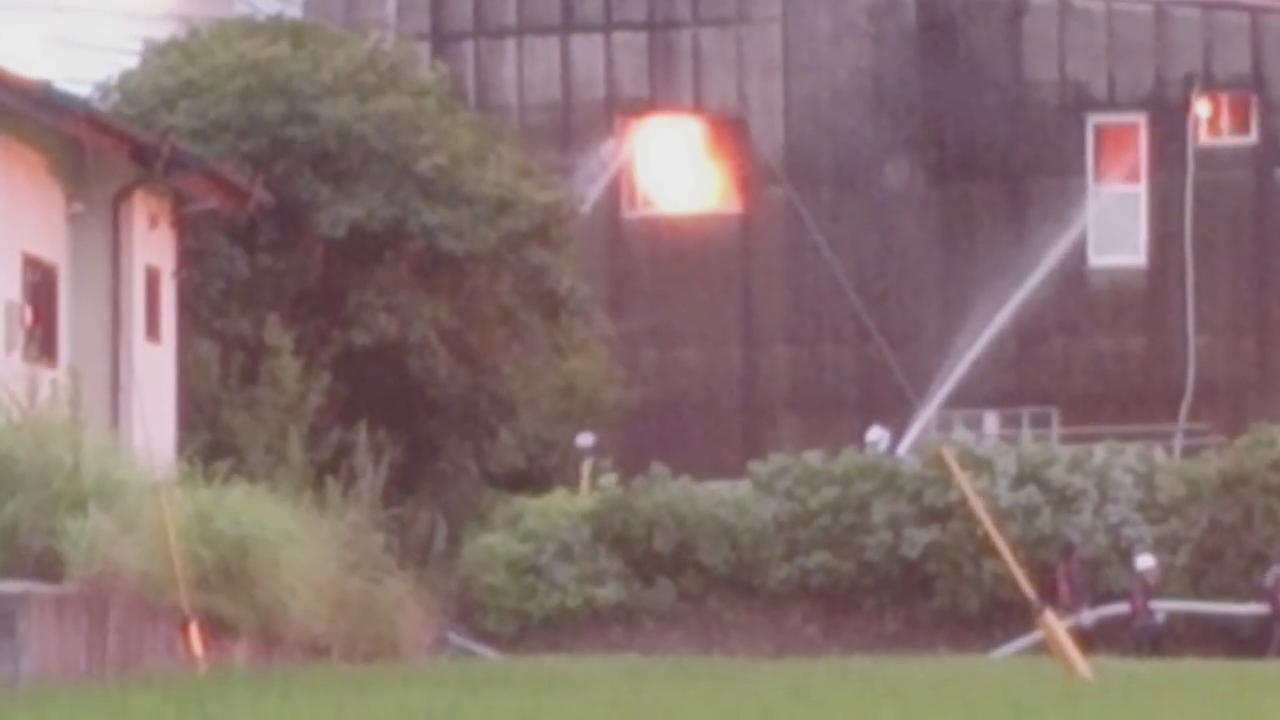Fire: (612, 103, 745, 213)
